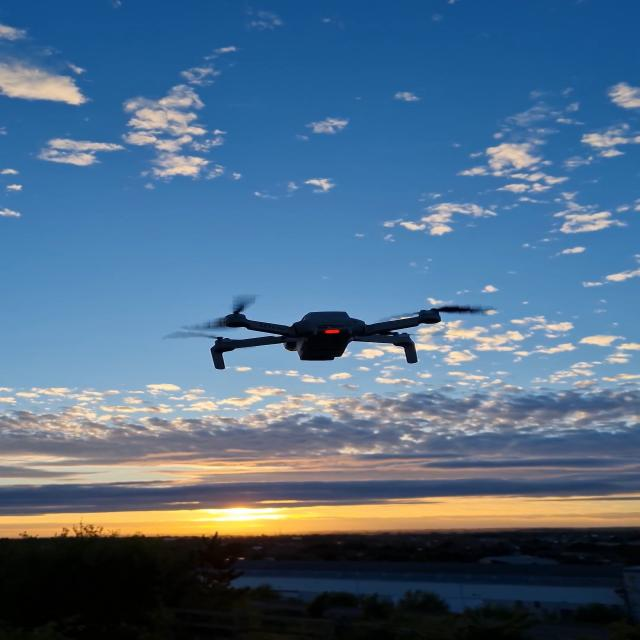Drone: (183, 298, 449, 375)
